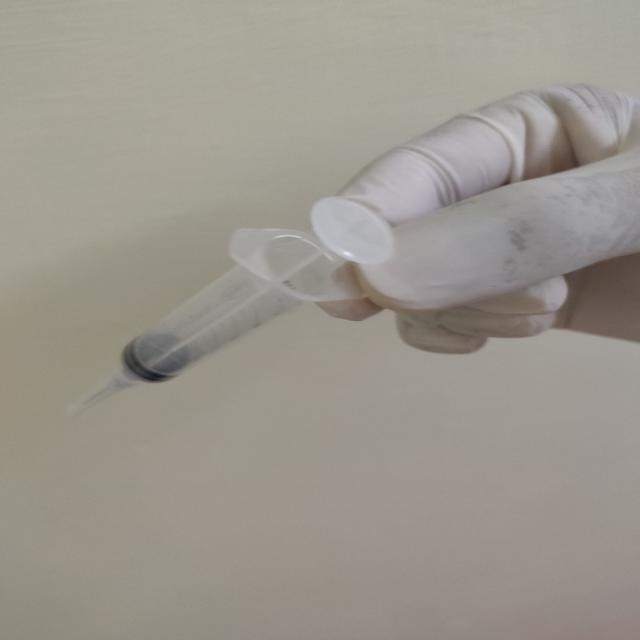B3: (48, 205, 388, 419)
